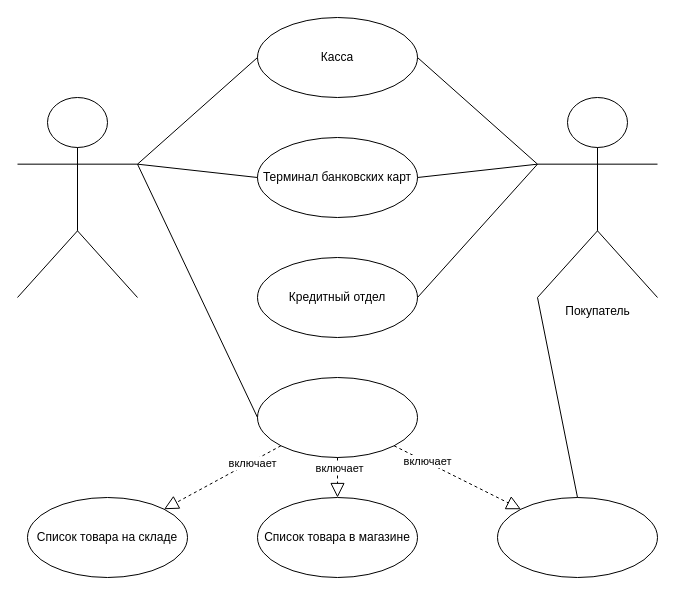
The diagram is 675 pixels wide and 595 high, and some of its shapes have lost their labels. Here are the shapes that lost their labels. From the top down, the centre of each, then its label:
At (x=77, y=197): "Продавец".
At (x=337, y=417): "Список товара".
At (x=577, y=537): "Список товара покупателя (корзина)".
